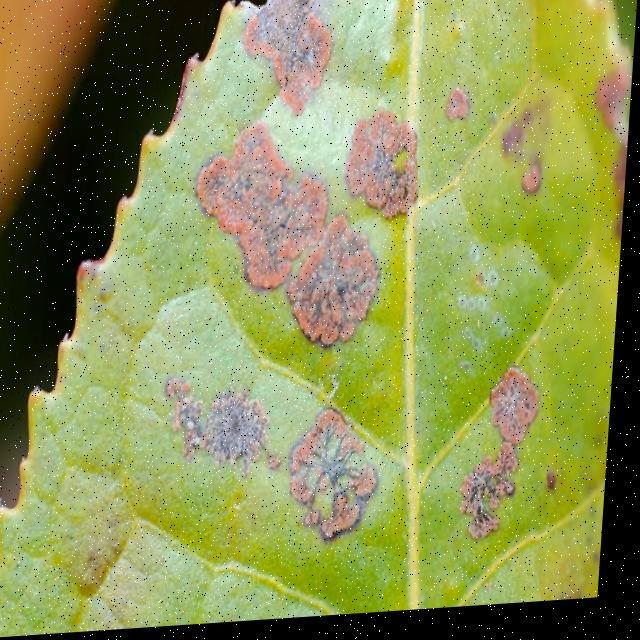Tea red rust: (178, 0, 585, 593)
